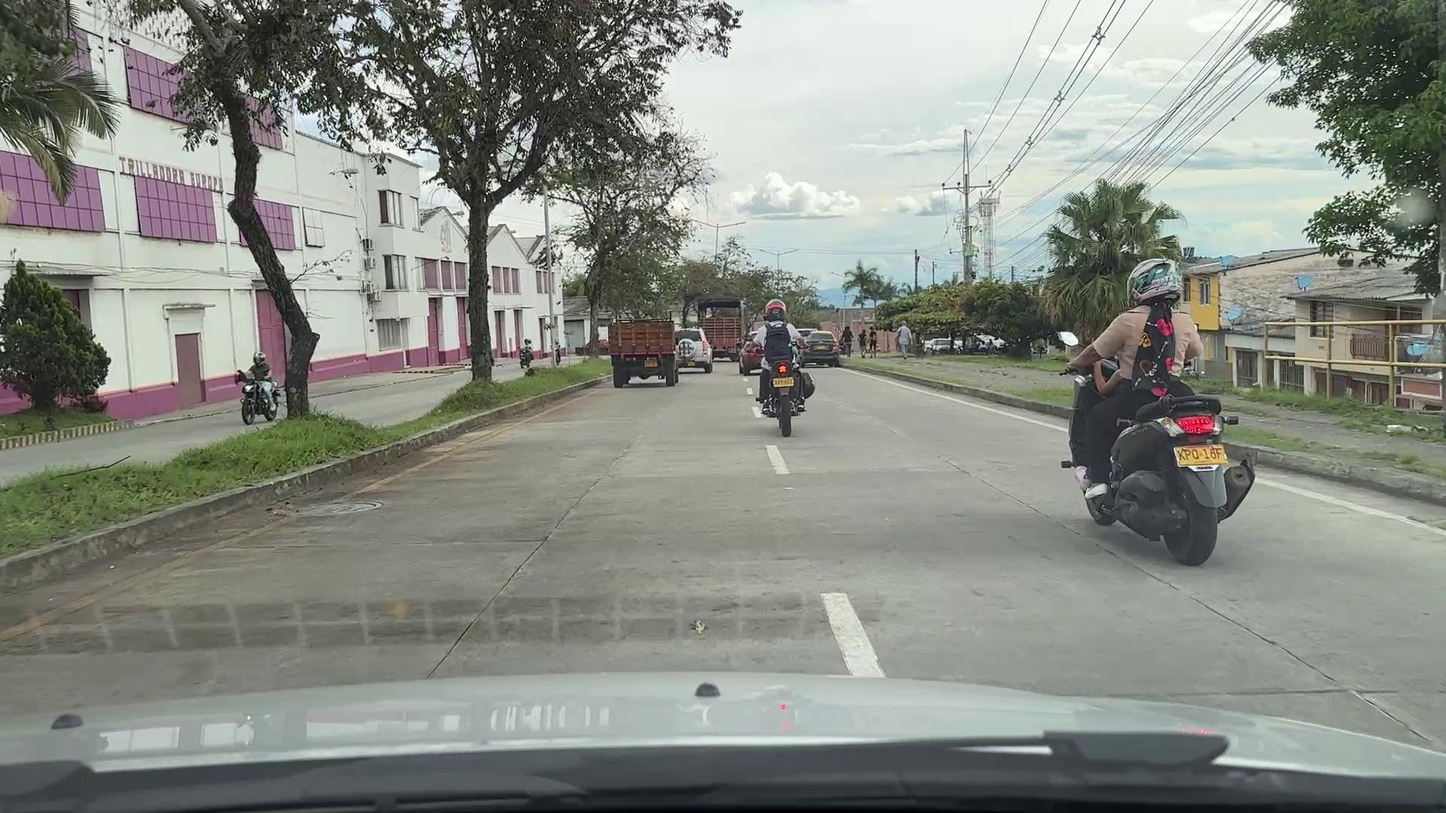registro: (294, 502, 376, 514)
